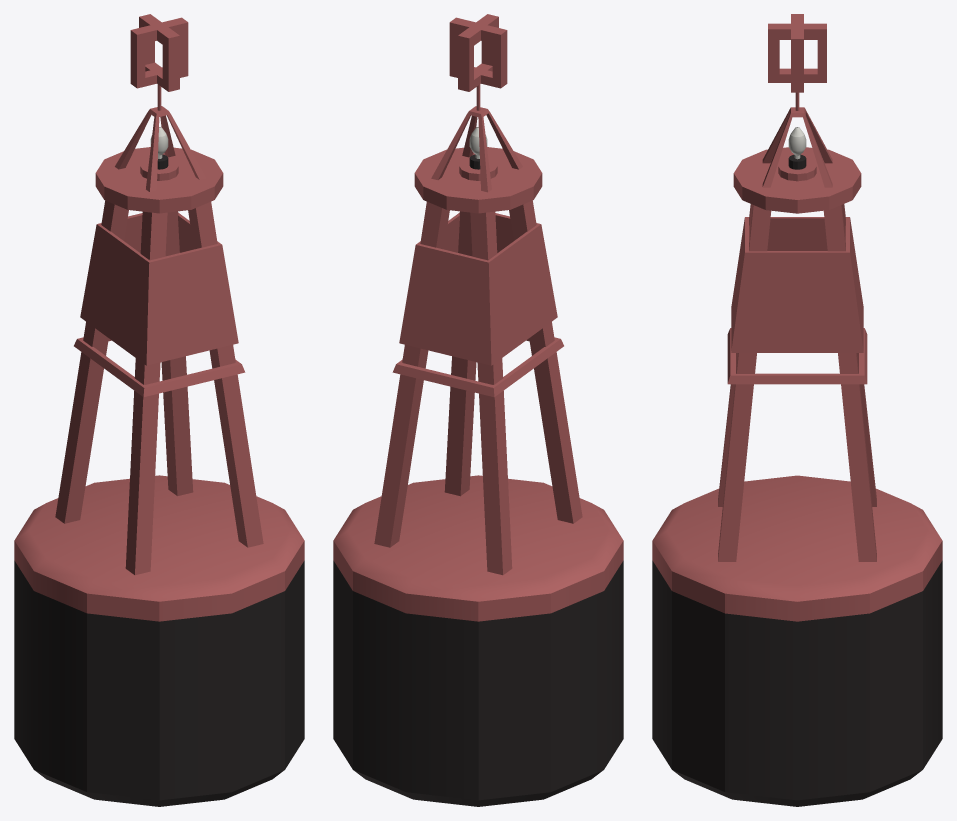
Rendered from Buoys_Quadrado.fbx.
3 renders of one model, left to right at view 1: azimuth 30°, elevation 25°; view 2: azimuth 150°, elevation 25°; view 3: azimuth 270°, elevation 25°, orthographic.
Visible parts, largest first — view 1: pCylinder9, pCube25, pCube26, pCylinder10, pCube27, pCube29, pCube31, pCube30; view 2: pCylinder9, pCube25, pCube26, pCylinder10, pCube27, pCube29, pCube31, pCube30; view 3: pCylinder9, pCube26, pCube25, pCylinder10, pCube27, pCube30, pCube29, pCube31, pCylinder11.
Boxes of the visible parts, x1,y1,x2,y2 form: pCylinder9: (14, 475, 304, 806); pCube25: (55, 200, 263, 575); pCube26: (80, 213, 238, 365); pCylinder10: (95, 147, 223, 213); pCube27: (74, 337, 245, 397); pCube29: (115, 106, 206, 192); pCube31: (130, 17, 188, 88); pCube30: (139, 14, 179, 91); pCylinder9: (333, 475, 623, 806); pCube25: (374, 200, 582, 575); pCube26: (399, 213, 557, 365); pCylinder10: (414, 147, 542, 213); pCube27: (392, 337, 563, 397); pCube29: (431, 106, 522, 192); pCube31: (449, 17, 507, 88); pCube30: (458, 14, 498, 91); pCylinder9: (652, 475, 942, 806); pCube26: (731, 217, 863, 352); pCube25: (718, 204, 876, 561); pCylinder10: (733, 147, 861, 213); pCube27: (727, 328, 867, 384); pCube30: (768, 23, 826, 82); pCube29: (762, 107, 832, 187); pCube31: (791, 14, 803, 92); pCylinder11: (778, 159, 816, 181).
Bounding box in the file's own units: 1.59 × 4.39 × 1.59.
